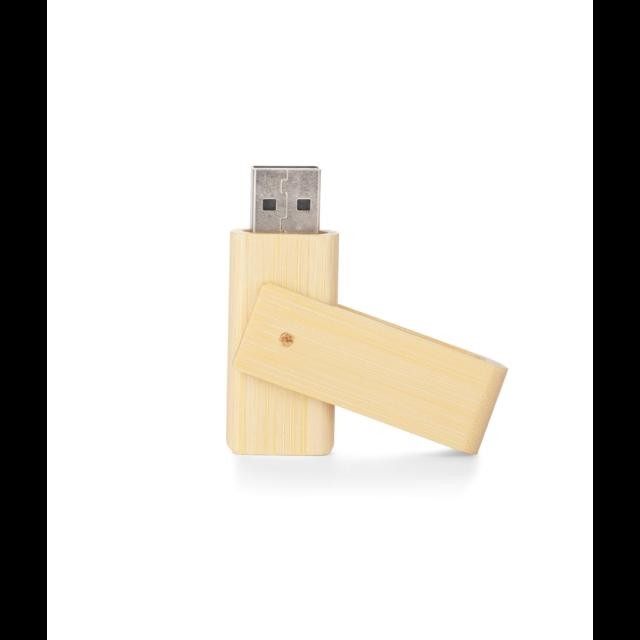USB-Flash-Drive: (226, 167, 339, 457)
